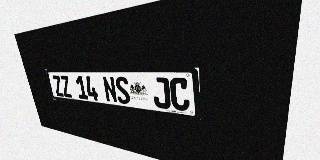1: (74, 76, 88, 100)
4: (84, 76, 99, 101)
C: (169, 78, 190, 112)
J: (152, 77, 171, 109)
N: (102, 76, 118, 103)
S: (114, 77, 131, 105)
Z: (59, 76, 73, 98), (52, 75, 64, 97)
